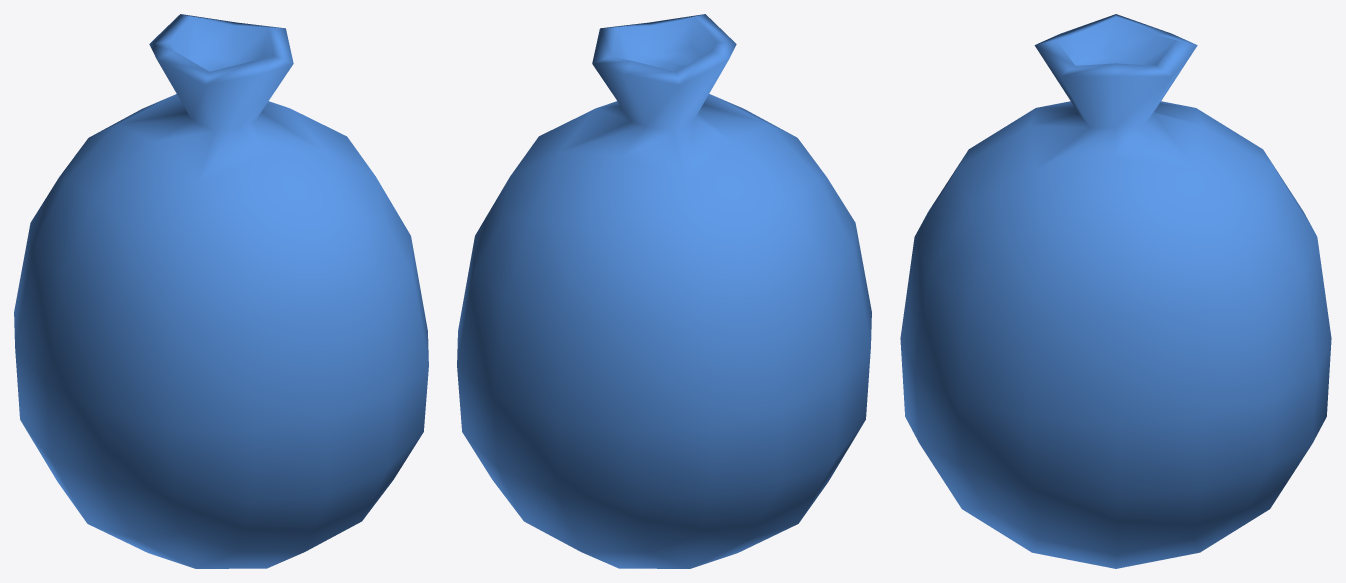
The model's file is glob2.fbx.
3 renders of one model, left to right at view 1: azimuth 30°, elevation 25°; view 2: azimuth 150°, elevation 25°; view 3: azimuth 270°, elevation 25°, orthographic.
Visible parts, largest first — view 1: water ballon; view 2: water ballon; view 3: water ballon.
Boxes of the visible parts, x1=… form: water ballon: x1=14, y1=14, x2=428, y2=568; water ballon: x1=457, y1=14, x2=871, y2=568; water ballon: x1=900, y1=14, x2=1331, y2=568.
Bounding box in the file's own units: 159 × 223 × 171.
